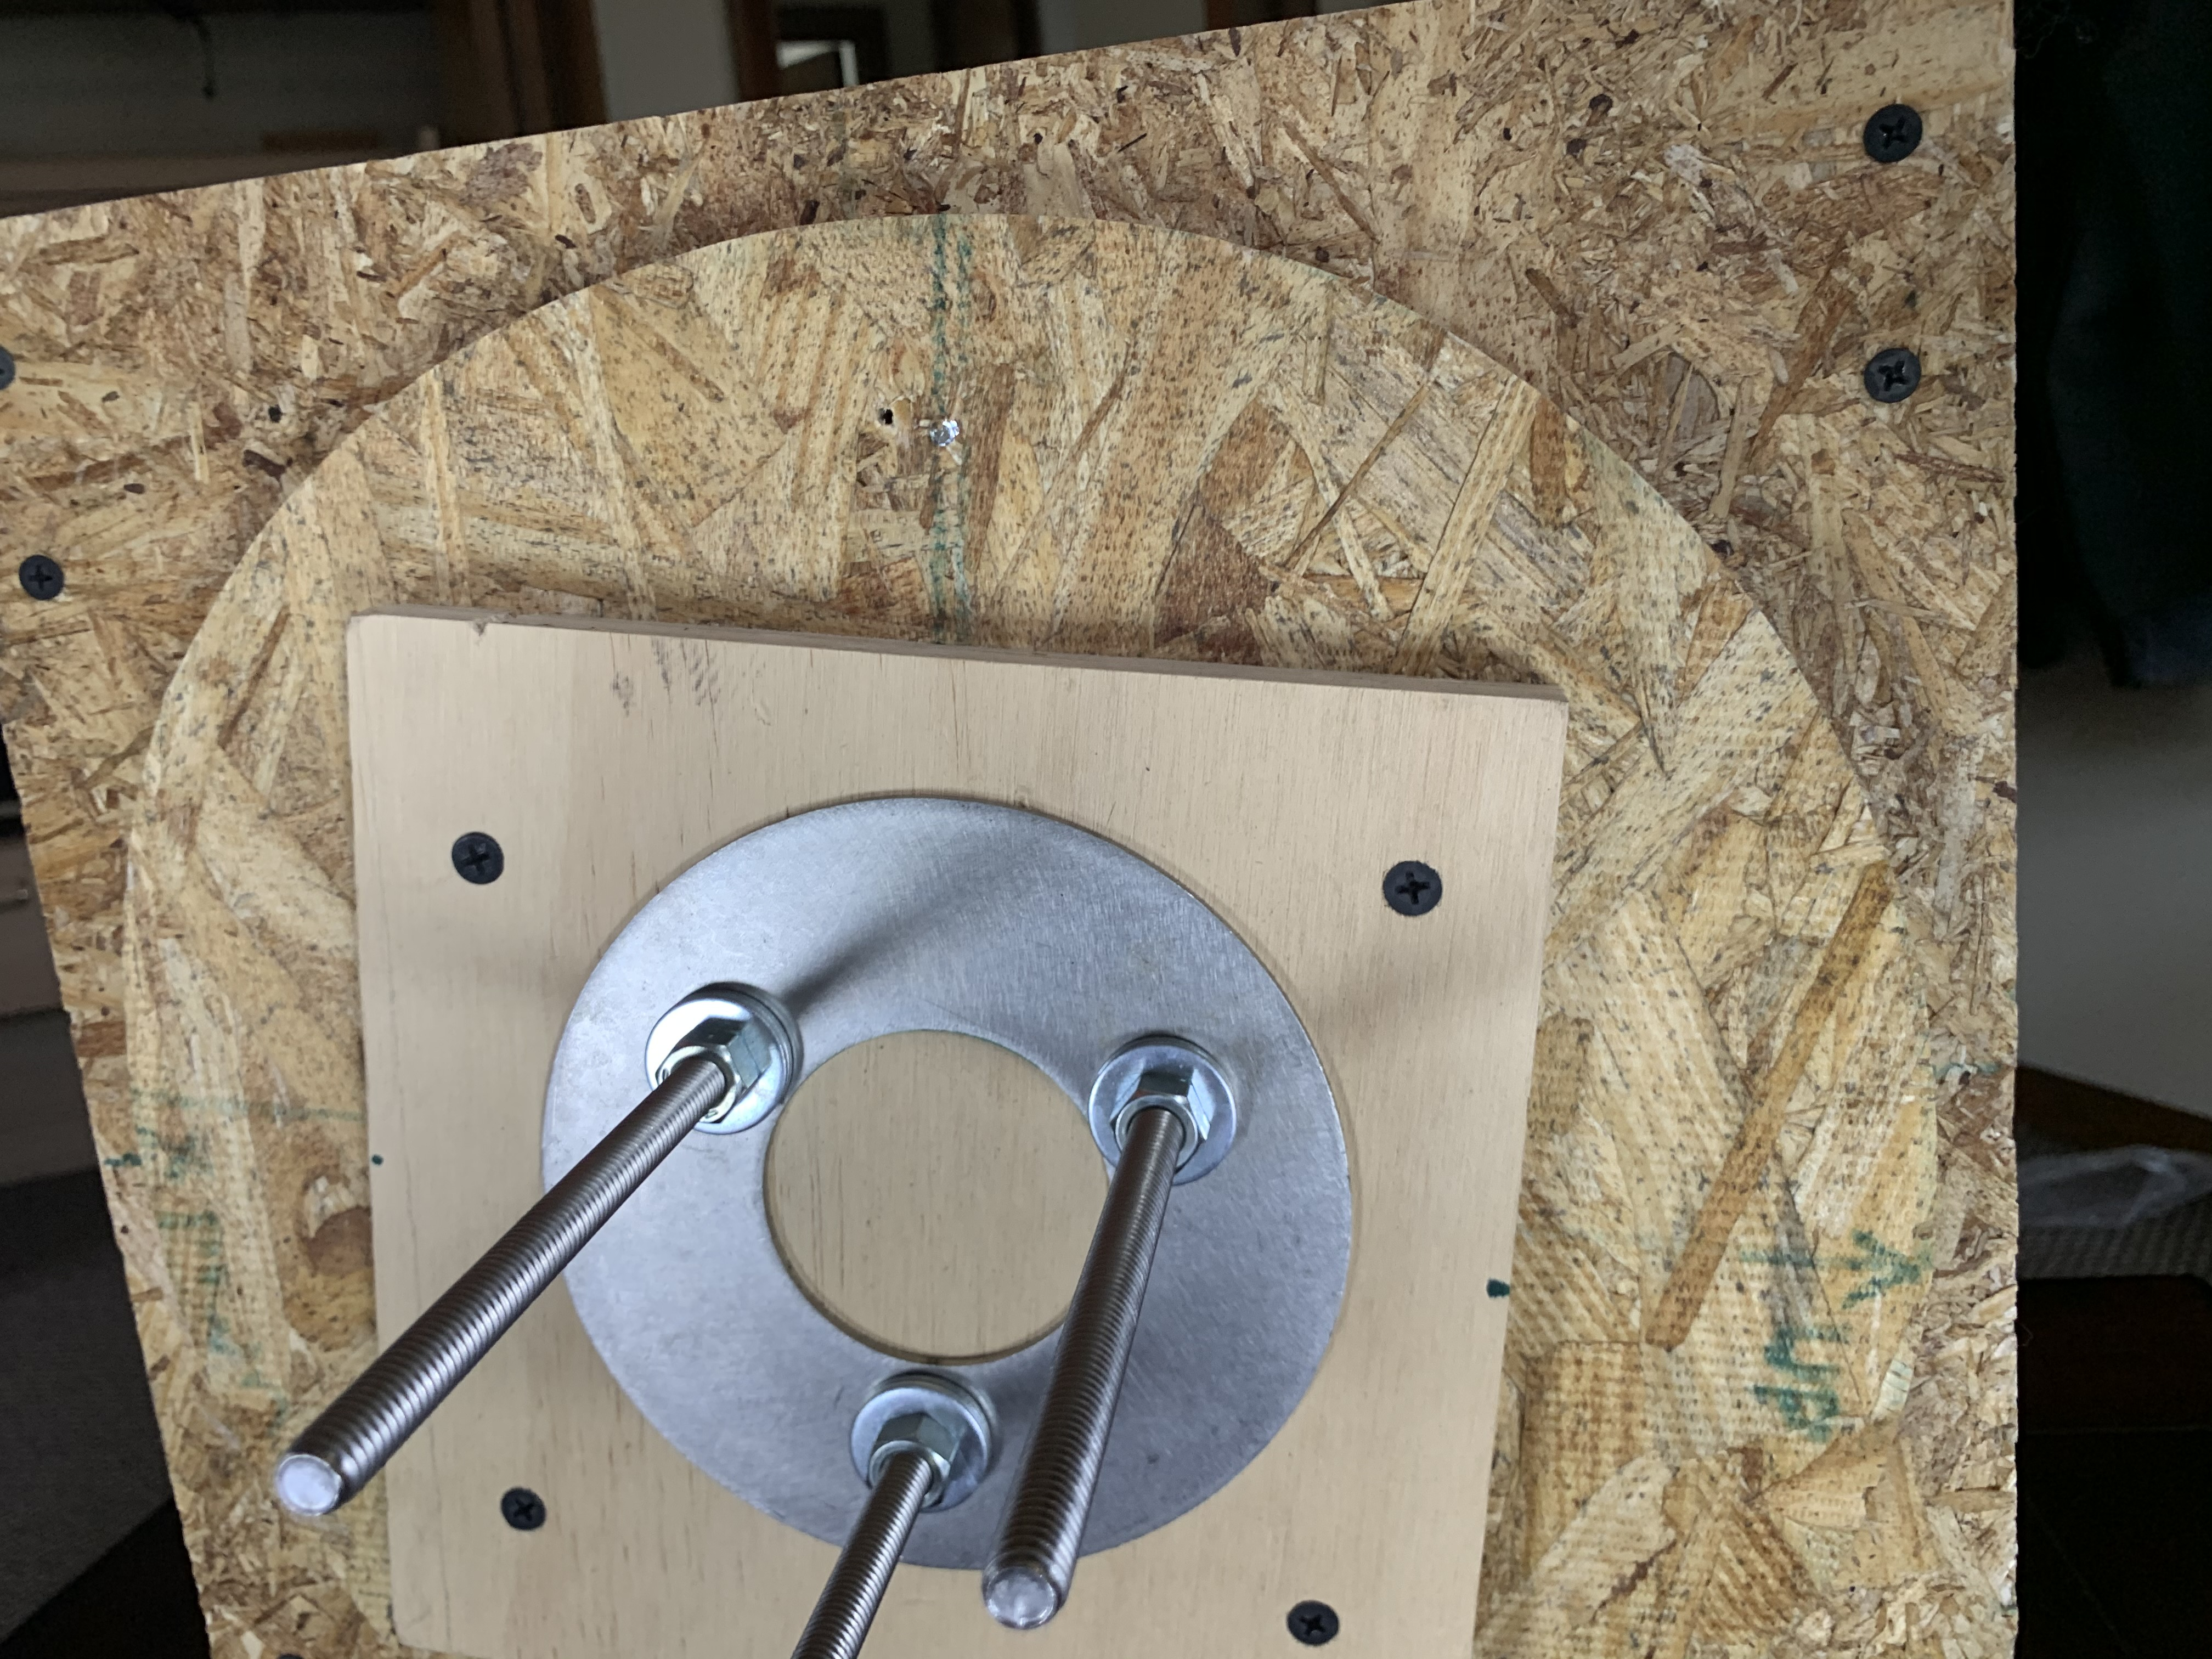bolt: (643, 983, 799, 1138), (1087, 1037, 1238, 1185), (850, 1371, 1001, 1509)
